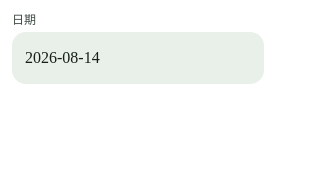
Test: DateField › a malformed day is reported too, and not as "required"
The image size is (332, 172).
Replace the text in the field with test id "date" with "2026-02-31" at coordinates (125, 58), box [25,49,225,67]
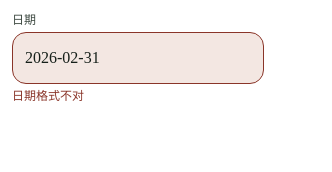
Now the text "日期格式不对" is shown, box [12,89,84,103]
